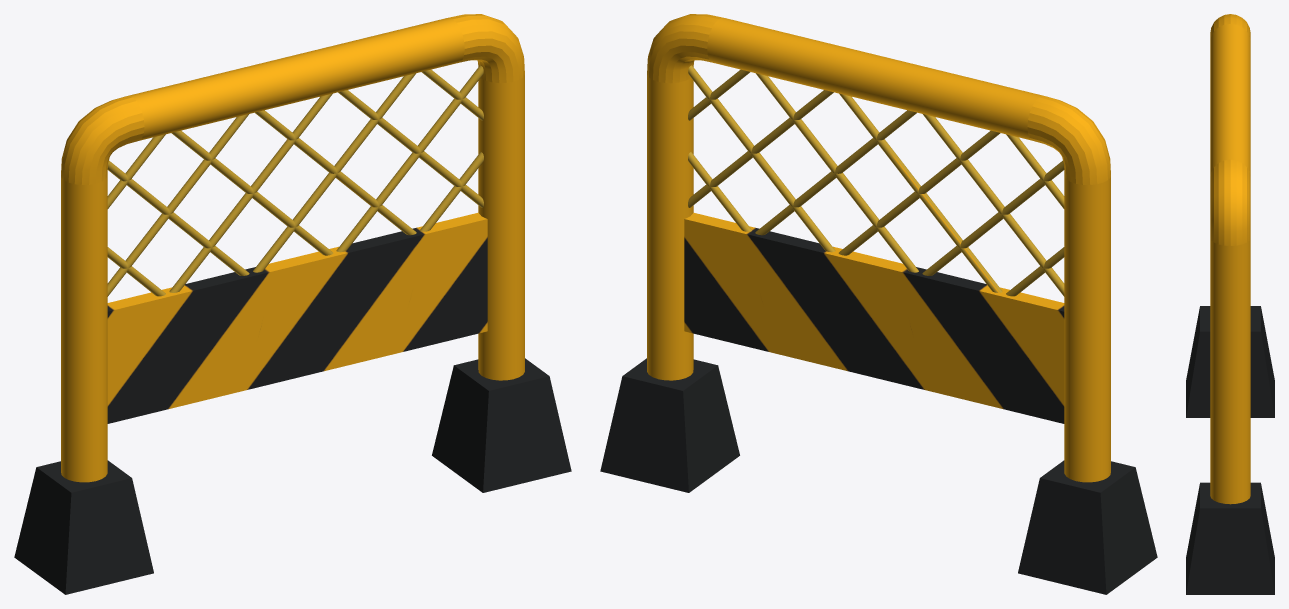
File: Fence1.fbx
3 views of the same model, side by side, from view 1: azimuth 30°, elevation 25°; view 2: azimuth 150°, elevation 25°; view 3: azimuth 270°, elevation 25° (orthographic). The views are drawn at different scales.
Visible parts, largest first — view 1: pCylinder32, pCube29, pCylinder36, pCube27, pCube28; view 2: pCylinder32, pCube29, pCylinder36, pCube27, pCube28; view 3: pCylinder32, pCube27, pCube28.
Boxes of the visible parts, x1,y1,x2,y2 form: pCylinder32: (61,14,524,482); pCube29: (107,212,487,423); pCylinder36: (107,65,483,296); pCube27: (432,358,571,492); pCube28: (14,460,153,594); pCylinder32: (647,14,1110,482); pCube29: (684,212,1064,423); pCylinder36: (688,65,1064,296); pCube27: (600,358,739,492); pCube28: (1018,460,1157,594); pCylinder32: (1210,14,1250,504); pCube27: (1186,482,1274,594); pCube28: (1186,306,1274,417).
Size of the model in its own units: 0.6062 by 0.5221 by 0.1062.
